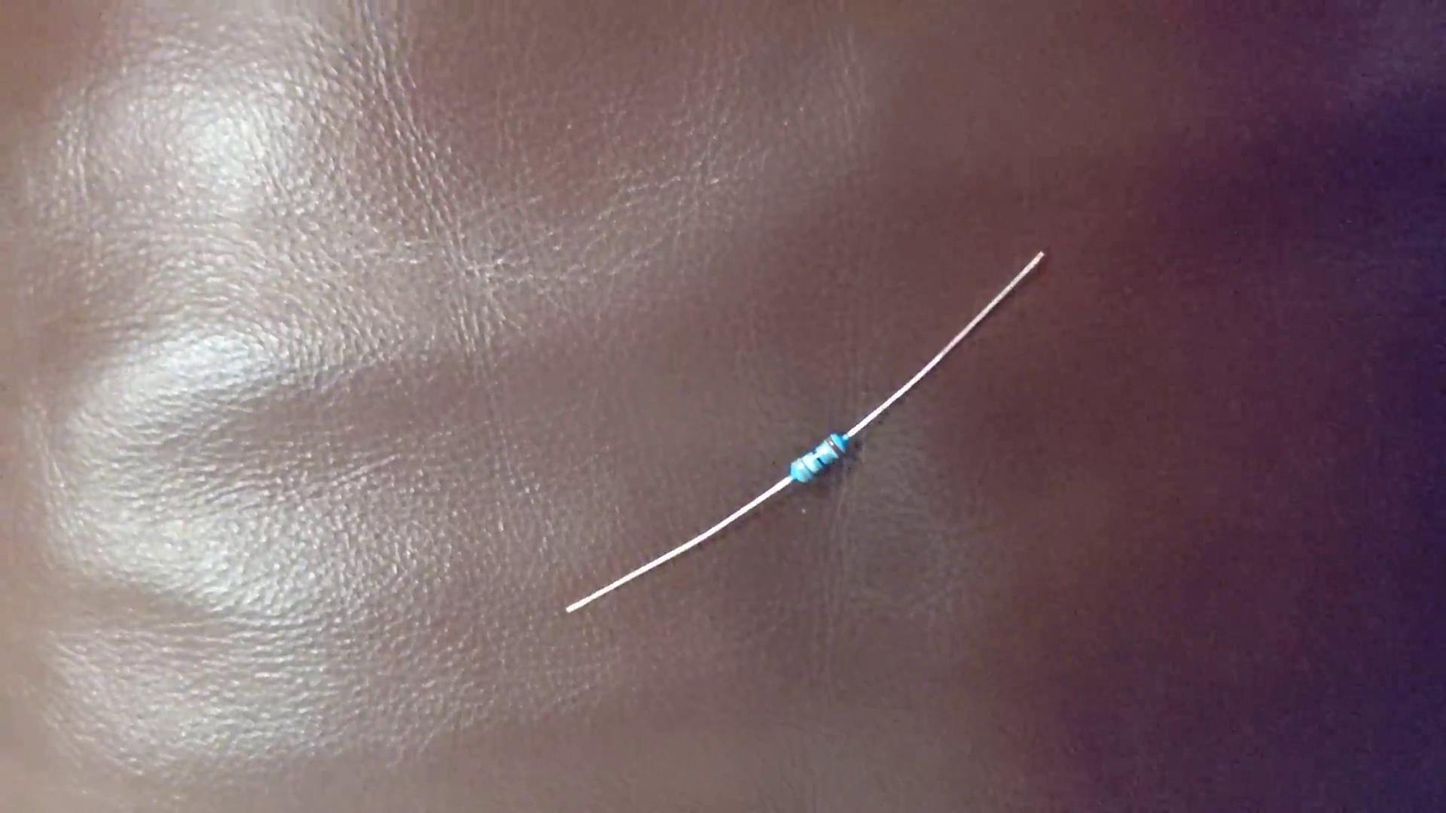resistor: (786, 429, 853, 482)
